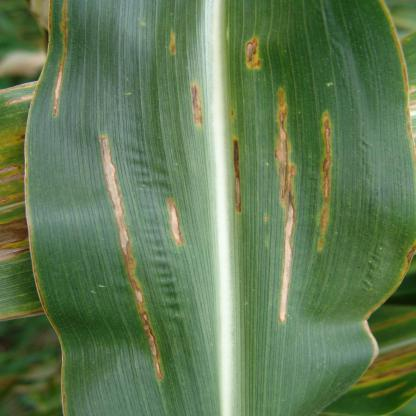corn leaf blight: (35, 2, 411, 416)
